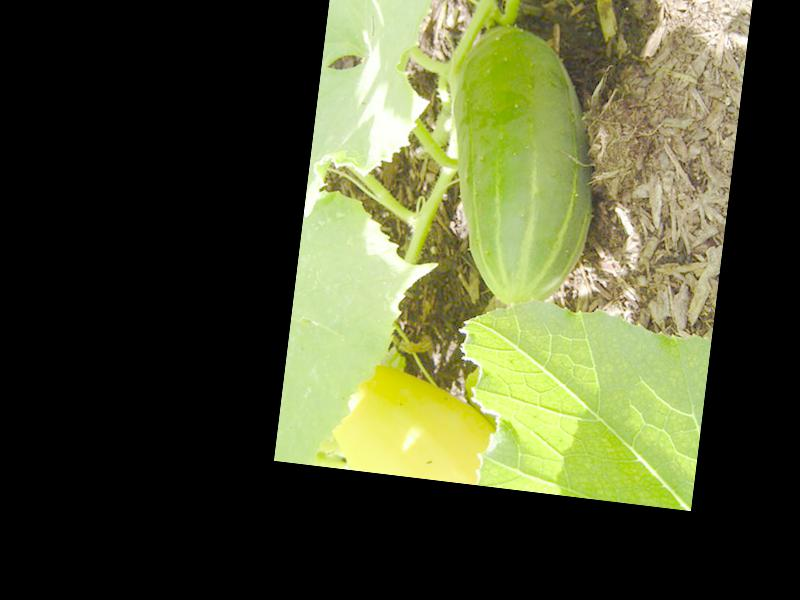Cucumber: (429, 19, 614, 314)
